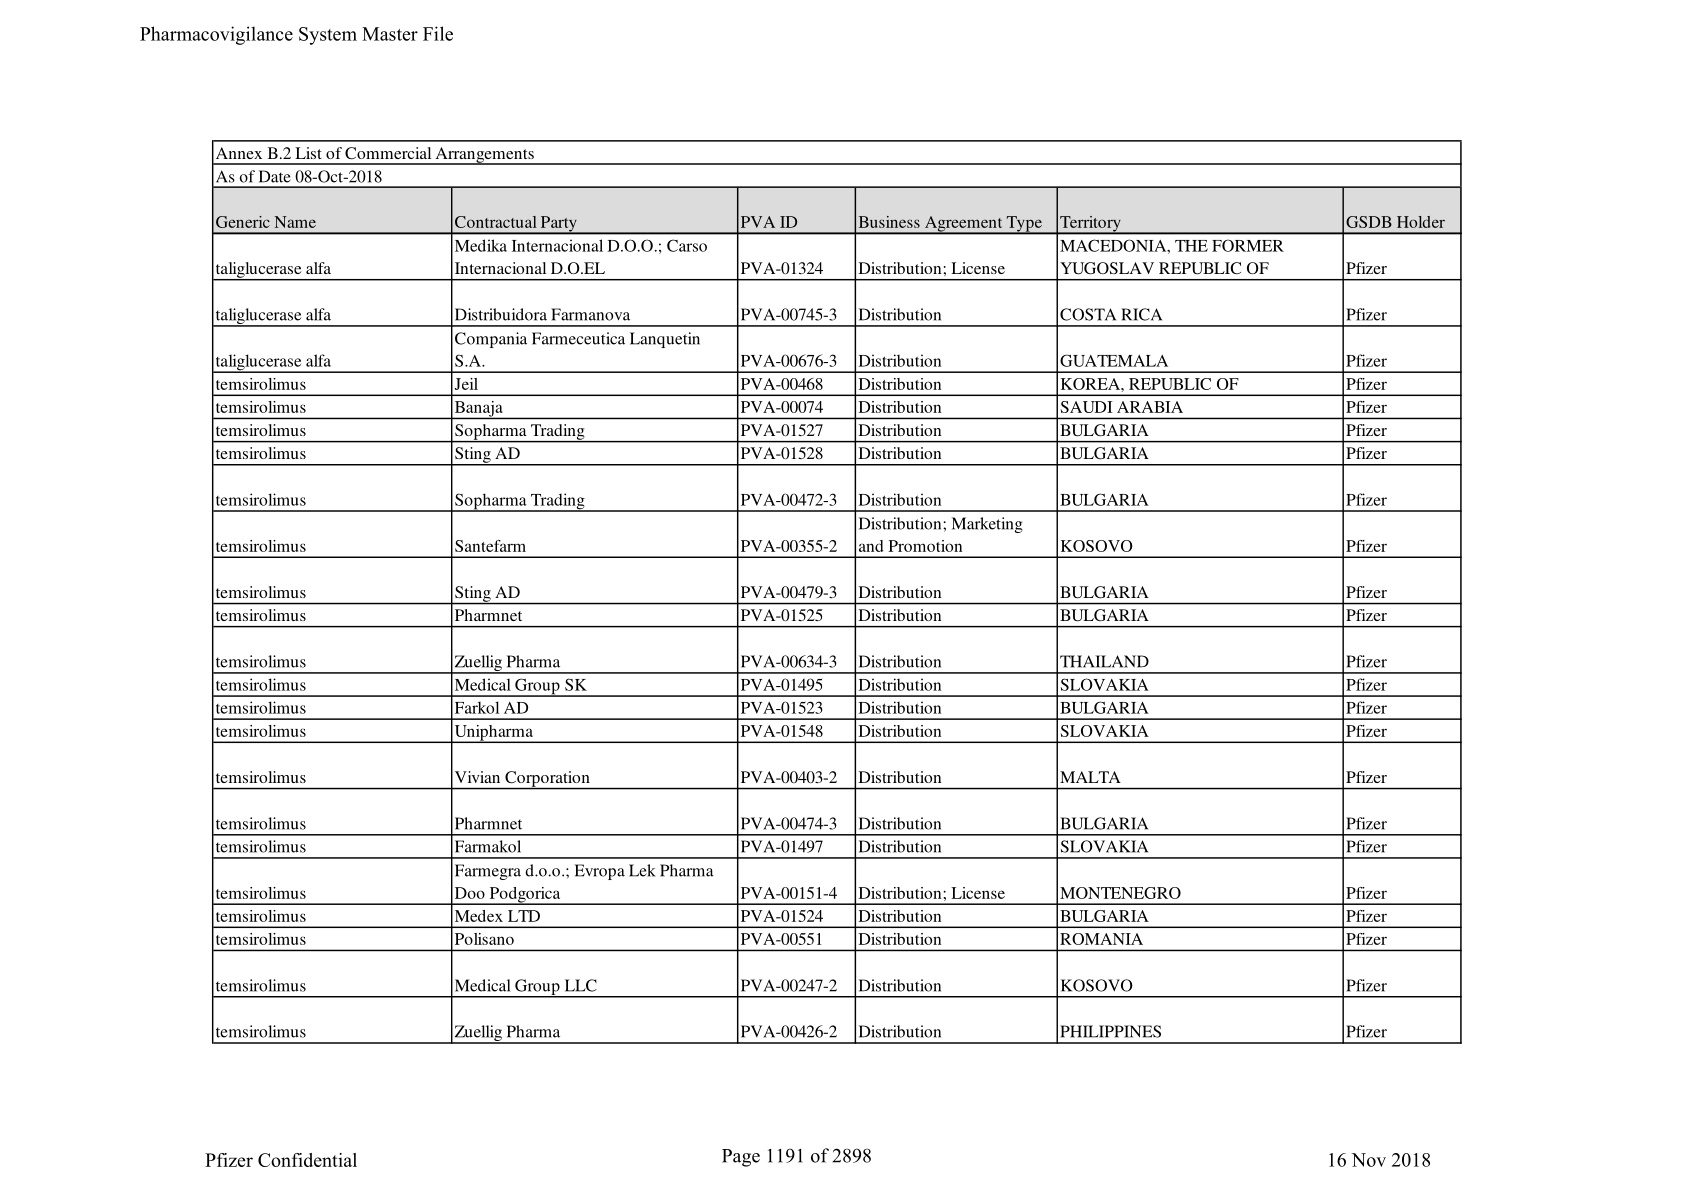merged_cells: (210, 139, 1462, 1045)
